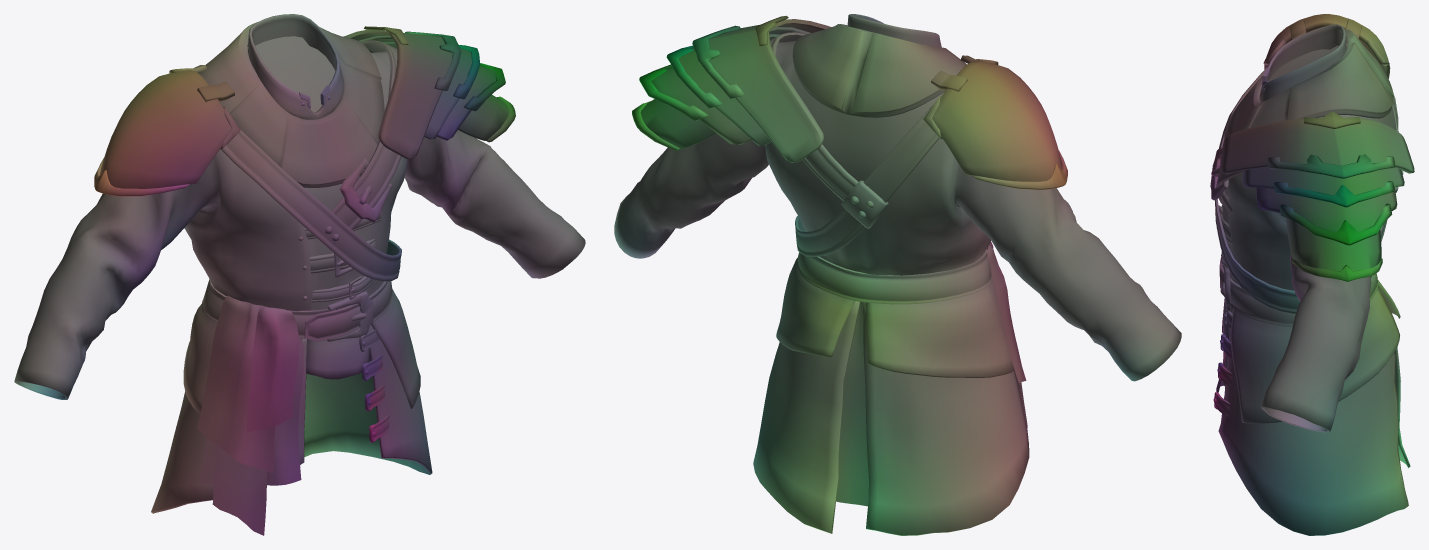
Rendered from SM_HM_Medium_Pirate_Torso.fbx.
3 renders of one model, left to right at view 1: azimuth 30°, elevation 25°; view 2: azimuth 150°, elevation 25°; view 3: azimuth 270°, elevation 25°, orthographic. The views are drawn at different scales.
Parts seen in each view (by area): view 1: SM_HM_Medium_Pirate_Torso; view 2: SM_HM_Medium_Pirate_Torso; view 3: SM_HM_Medium_Pirate_Torso.
Part boxes in pixels (<box>): SM_HM_Medium_Pirate_Torso: <box>14,14,585,535</box>; SM_HM_Medium_Pirate_Torso: <box>614,14,1181,535</box>; SM_HM_Medium_Pirate_Torso: <box>1210,14,1414,535</box>.
Size of the model in its own units: 122 by 103 by 41.19.
